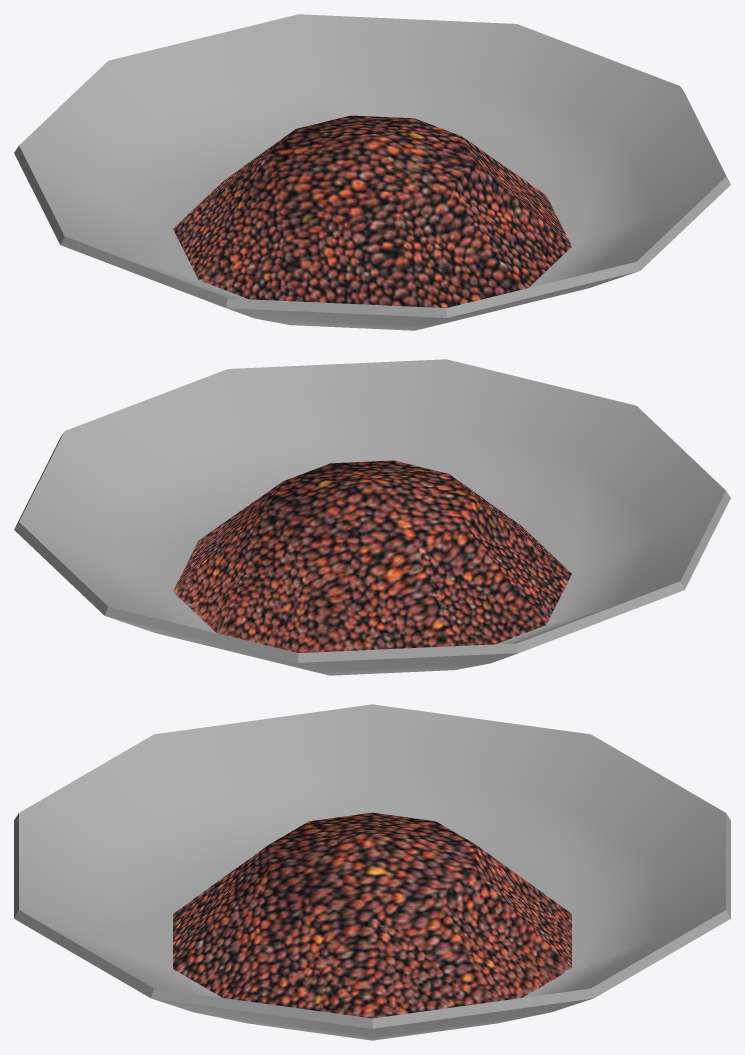
Rendered from mustard.fbx.
The picture shows the model from 3 angles, top to bottom: view 1: azimuth 30°, elevation 25°; view 2: azimuth 150°, elevation 25°; view 3: azimuth 270°, elevation 25°; orthographic projection. The views are drawn at different scales.
Visible parts, largest first — view 1: mustard; view 2: mustard; view 3: mustard.
Boxes of the visible parts, left/top/right/bottom form: mustard: left=14, top=14, right=730, bottom=330; mustard: left=14, top=359, right=730, bottom=675; mustard: left=14, top=704, right=730, bottom=1040.
Size of the model in its own units: 2.21 by 0.3698 by 2.1.
2 materials, 1 textured.
